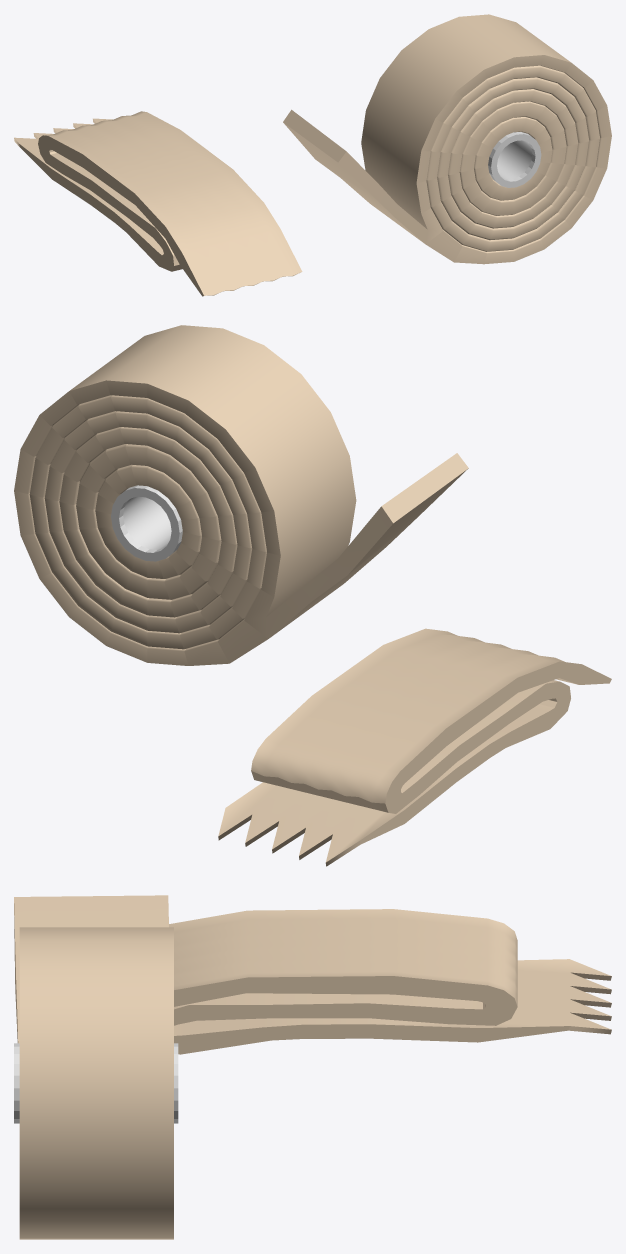
The model's file is sargi_bezleri.fbx.
3 views of the same model, one above another, from view 1: azimuth 30°, elevation 25°; view 2: azimuth 150°, elevation 25°; view 3: azimuth 270°, elevation 25° (orthographic). The views are drawn at different scales.
Visible parts, largest first — view 1: buyuk_keten, kucuk_keten; view 2: buyuk_keten, kucuk_keten; view 3: buyuk_keten, kucuk_keten.
Boxes of the visible parts, bbox=[...] form: buyuk_keten: bbox=[283, 14, 611, 264]; kucuk_keten: bbox=[14, 111, 302, 296]; buyuk_keten: bbox=[14, 325, 468, 665]; kucuk_keten: bbox=[218, 628, 611, 866]; buyuk_keten: bbox=[14, 895, 178, 1239]; kucuk_keten: bbox=[169, 909, 611, 1054].
Bounding box in the file's own units: 15.73 × 7.78 × 14.79.
